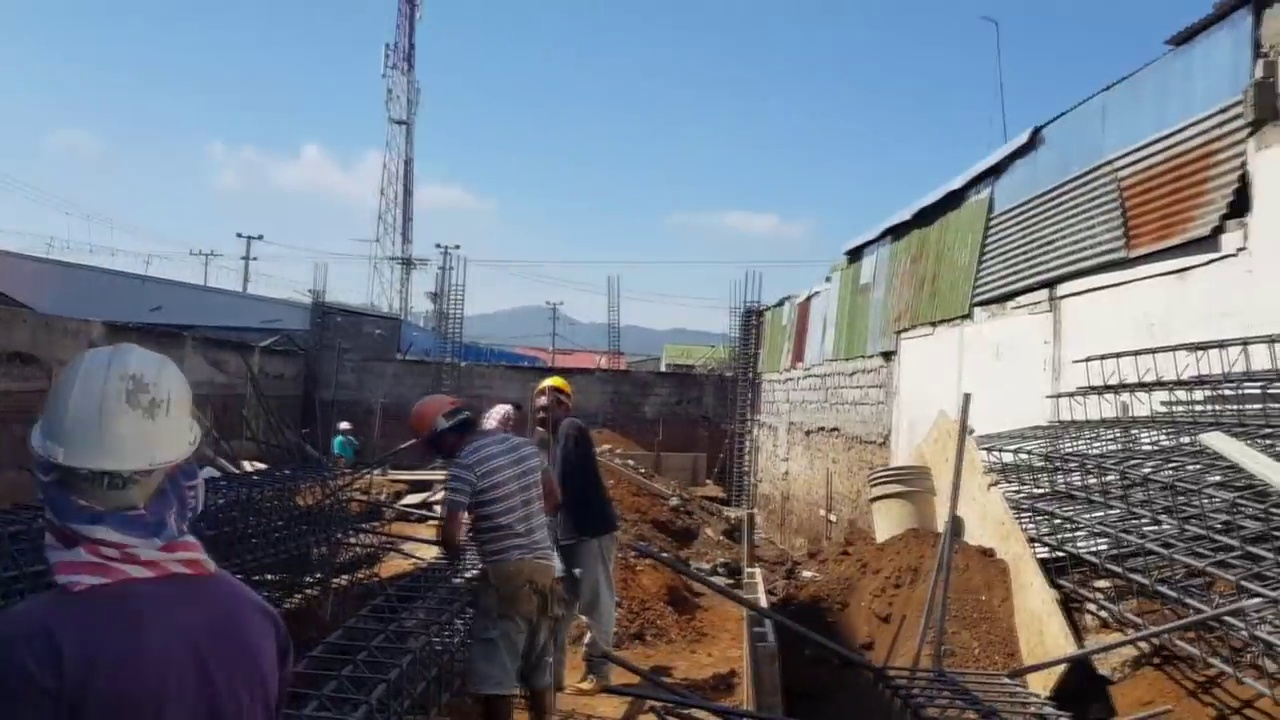helmet: (22, 344, 202, 482), (407, 393, 472, 438), (530, 380, 575, 409), (336, 421, 354, 431)
helmet-off: (504, 399, 525, 419)
helmet-on: (20, 343, 199, 563), (407, 392, 481, 464), (530, 380, 574, 429), (336, 422, 353, 437)
person: (0, 341, 285, 714), (408, 391, 559, 679), (532, 377, 619, 698), (480, 398, 526, 437), (330, 422, 359, 471)
